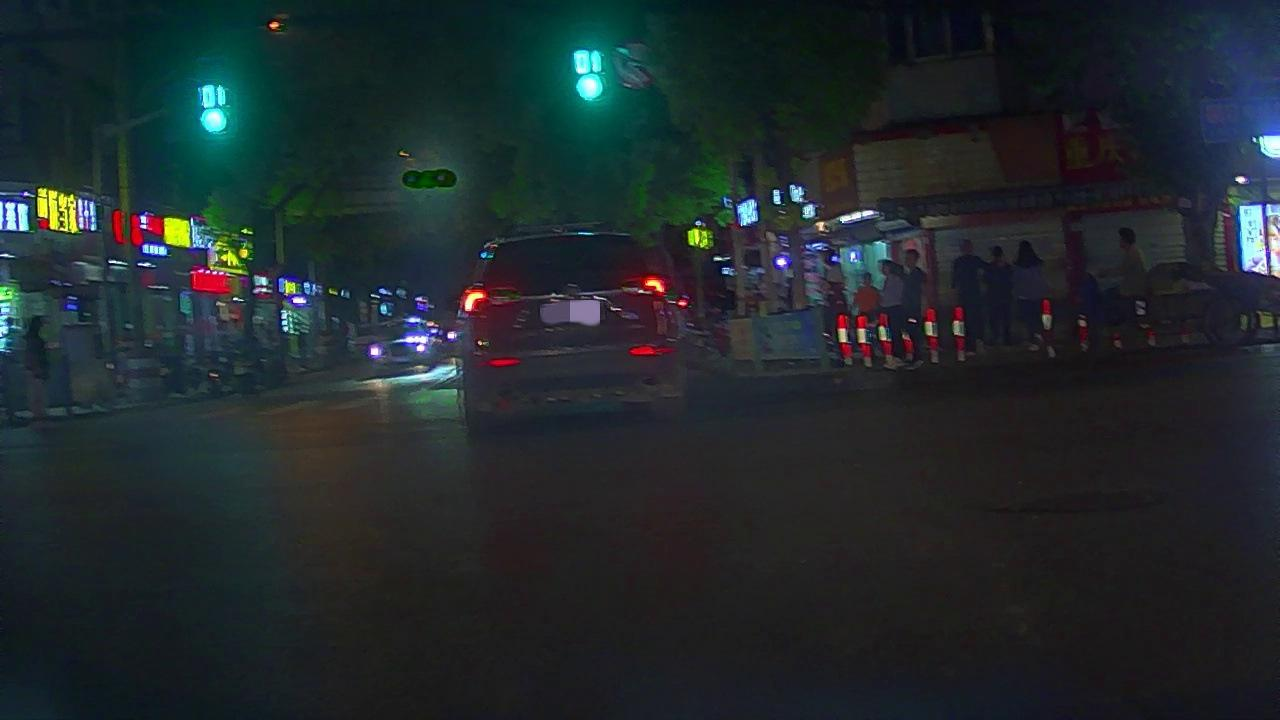traffic_light: (571, 39, 609, 108), (197, 78, 233, 136)
